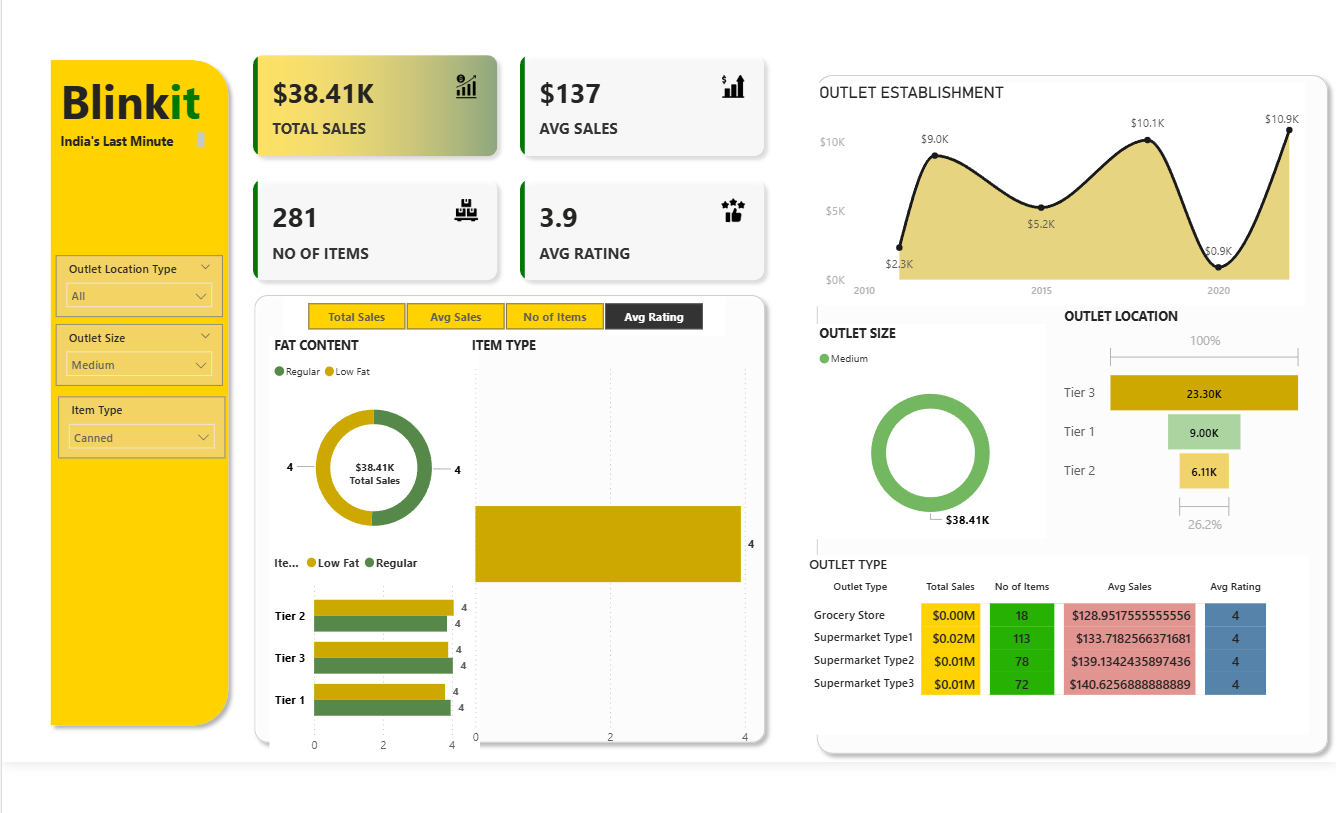

Layout of this report page (visuals, bound fields, positions):
{"tool":"powerbi","page":{"name":"Page 1","canvas":[1400,800],"ordinal":0},"visuals":[{"type":"shape","box":[41.9,55.1,204.5,715.7],"z":0},{"type":"textbox","box":[56.4,69.5,175.7,80],"z":1000},{"type":"textbox","box":[56.4,135,161.2,28.8],"z":2000},{"type":"cardVisual","fields":{"Data":["BlinkIT Grocery Data.Total Sales","BlinkIT Grocery Data.Avg Sales","BlinkIT Grocery Data.No of Items","BlinkIT Grocery Data.Avg Rating"]},"box":[246.4,41.9,570.2,270],"z":3000},{"type":"shape","box":[255.6,301.4,553.9,487.6],"z":4000},{"type":"donutChart","title":"FAT CONTENT","fields":{"Y":["BlinkIT Grocery Data.Avg Rating"],"Category":["BlinkIT Grocery Data.Item Fat Content"]},"box":[280.9,353.5,219.3,230.4],"z":5000},{"type":"slicer","fields":{"Values":["Metrics.Metrics"]},"box":[295.1,312.4,463.9,41],"z":6000},{"type":"cardVisual","fields":{"Data":["BlinkIT Grocery Data.Total Sales"]},"box":[295.1,449.7,192.5,96.3],"z":7000},{"type":"clusteredBarChart","title":"FAT BY OUTLET","fields":{"Y":["BlinkIT Grocery Data.Avg Rating"],"Category":["BlinkIT Grocery Data.Outlet Location Type"],"Series":["BlinkIT Grocery Data.Item Fat Content"]},"box":[280.9,571.2,220.9,228.8],"z":8000},{"type":"barChart","title":"ITEM TYPE","fields":{"Y":["BlinkIT Grocery Data.Avg Rating"],"Category":["BlinkIT Grocery Data.Item Type"]},"box":[487.6,353.5,310.9,438.7],"z":9000},{"type":"shape","box":[846,70.5,554.1,729.7],"z":10000},{"type":"lineChart","title":"OUTLET ESTABLISHMENT","fields":{"Category":["BlinkIT Grocery Data.Outlet Establishment Year"],"Y":["BlinkIT Grocery Data.Total Sales"]},"box":[852.1,87.8,515.2,234.6],"z":11000},{"type":"donutChart","title":"OUTLET SIZE","fields":{"Y":["BlinkIT Grocery Data.Total Sales"],"Category":["BlinkIT Grocery Data.Outlet Size"]},"box":[852.1,340.9,243,225.7],"z":12000},{"type":"funnel","title":"OUTLET LOCATION","fields":{"Category":["BlinkIT Grocery Data.Outlet Location Type"],"Y":["Sum(BlinkIT Grocery Data.Sales)"]},"box":[1109.3,323.5,260.4,243],"z":13000},{"type":"pivotTable","title":"OUTLET  TYPE","fields":{"Values":["BlinkIT Grocery Data.Total Sales","BlinkIT Grocery Data.No of Items","BlinkIT Grocery Data.Avg Sales","BlinkIT Grocery Data.Avg Rating"],"Rows":["BlinkIT Grocery Data.Outlet Type"]},"box":[841.1,583.9,528.6,187.8],"z":14000},{"type":"slicer","fields":{"Values":["BlinkIT Grocery Data.Outlet Location Type"]},"box":[56.8,268.3,175.2,64.7],"z":15000},{"type":"slicer","fields":{"Values":["BlinkIT Grocery Data.Outlet Size"]},"box":[56.8,340.9,175.2,64.7],"z":16000},{"type":"slicer","fields":{"Values":["BlinkIT Grocery Data.Item Type"]},"box":[58.4,416.6,175.2,64.7],"z":17000}]}

Visuals, with their boxes on the page's 1400x800 design canvas (x1, y1, x2, y2). These are canvas units, not pixel positions in the 1336x813 screenshot, which may show the page scaled, cropped or inside an application window:
shape: (42,55,246,771)
textbox: (56,70,232,150)
textbox: (56,135,218,164)
cardVisual - BlinkIT Grocery Data.Total Sales x BlinkIT Grocery Data.Avg Sales: (246,42,817,312)
shape: (256,301,810,789)
"FAT CONTENT" donutChart: (281,354,500,584)
slicer - Metrics.Metrics: (295,312,759,353)
cardVisual - BlinkIT Grocery Data.Total Sales: (295,450,488,546)
"FAT BY OUTLET" clusteredBarChart: (281,571,502,800)
"ITEM TYPE" barChart: (488,354,798,792)
shape: (846,70,1400,800)
"OUTLET ESTABLISHMENT" lineChart: (852,88,1367,322)
"OUTLET SIZE" donutChart: (852,341,1095,567)
"OUTLET LOCATION" funnel: (1109,324,1370,566)
"OUTLET  TYPE" pivotTable: (841,584,1370,772)
slicer - BlinkIT Grocery Data.Outlet Location Type: (57,268,232,333)
slicer - BlinkIT Grocery Data.Outlet Size: (57,341,232,406)
slicer - BlinkIT Grocery Data.Item Type: (58,417,234,481)
